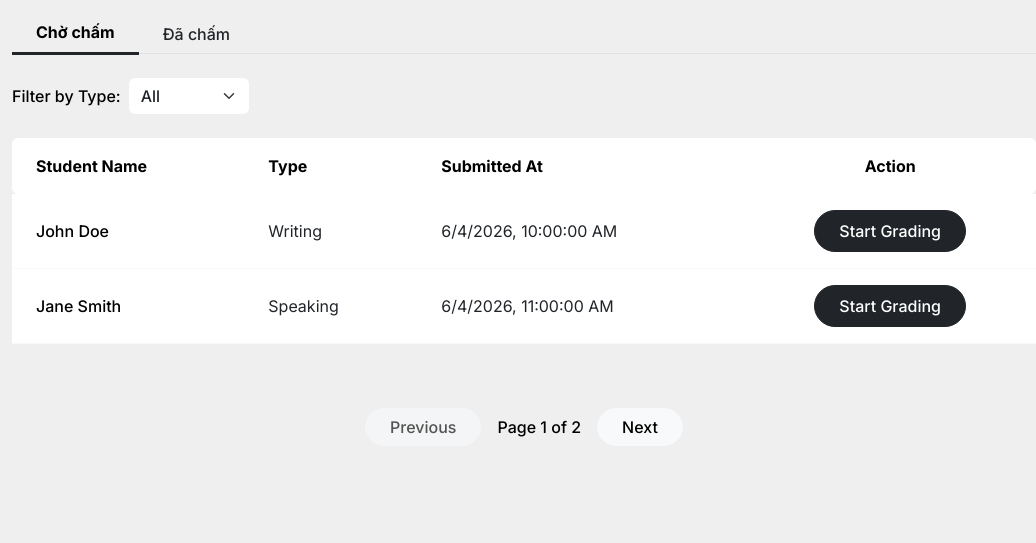
Test case: TutorQueue Component › should handle claim conflict error (409) gracefully
This screenshot has width=1036, height=543.
Click the button with test id "claim-btn-sub-2": (890, 306) [814,285,966,327]
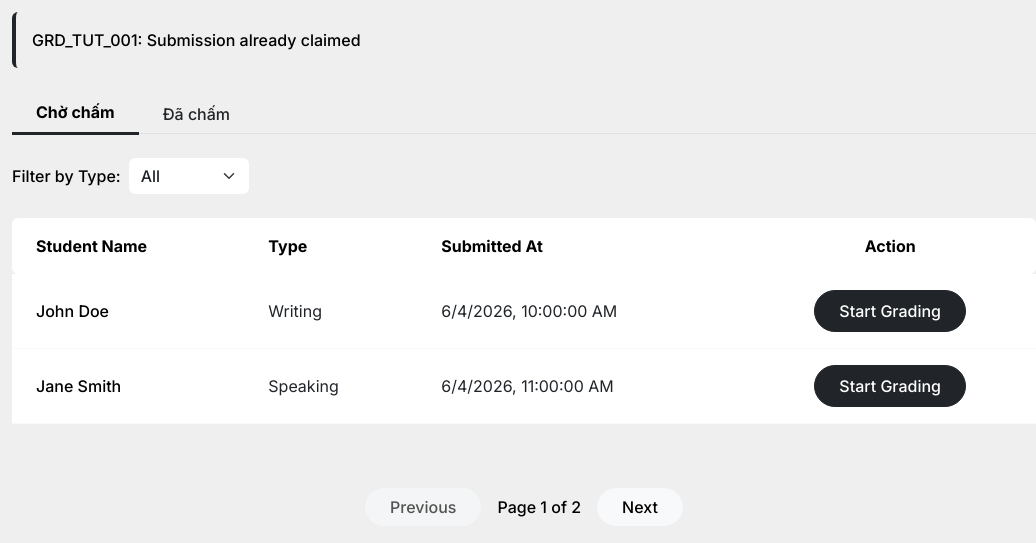
Result: the message with test id "claim-error-message" reads "GRD_TUT_001: Submission already claimed" at [32,30,361,50]
